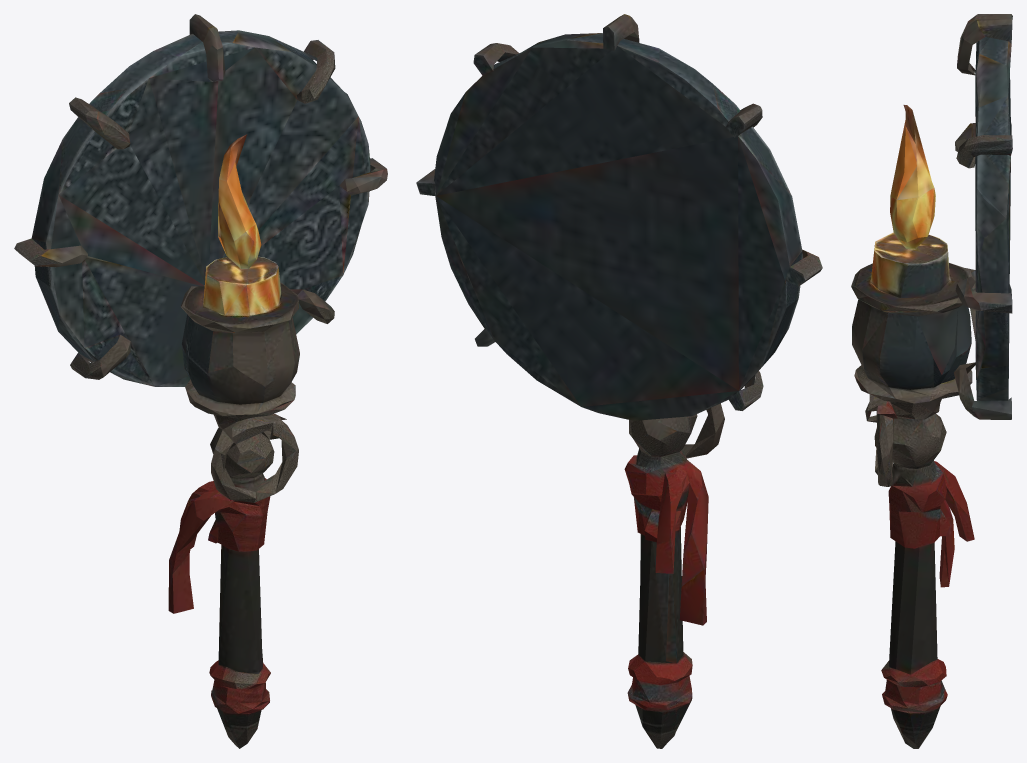
The model's file is sconce.glb.
3 views of the same model, side by side, from view 1: azimuth 30°, elevation 25°; view 2: azimuth 150°, elevation 25°; view 3: azimuth 270°, elevation 25° (orthographic). The views are drawn at different scales.
Size of the model in its own units: 1.02 by 1.9 by 0.3813.
1 material, 1 textured.
